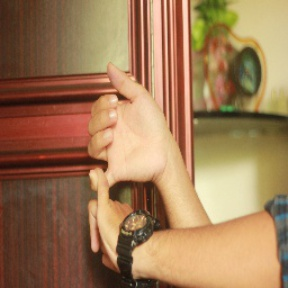S: (81, 60, 172, 279)
